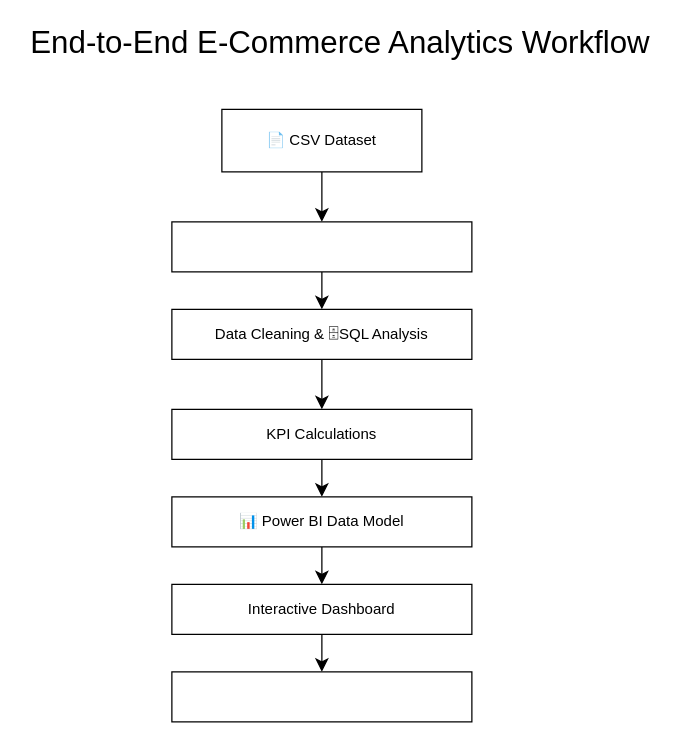
Some shapes in this 680 by 744 pixel diagram are drawn without their labels. The centre of each missing label's shape, as x and y in pixels:
"Business Insights" goes at (x=321, y=696).
"🐘 PostgreSQL Database" goes at (x=321, y=246).
